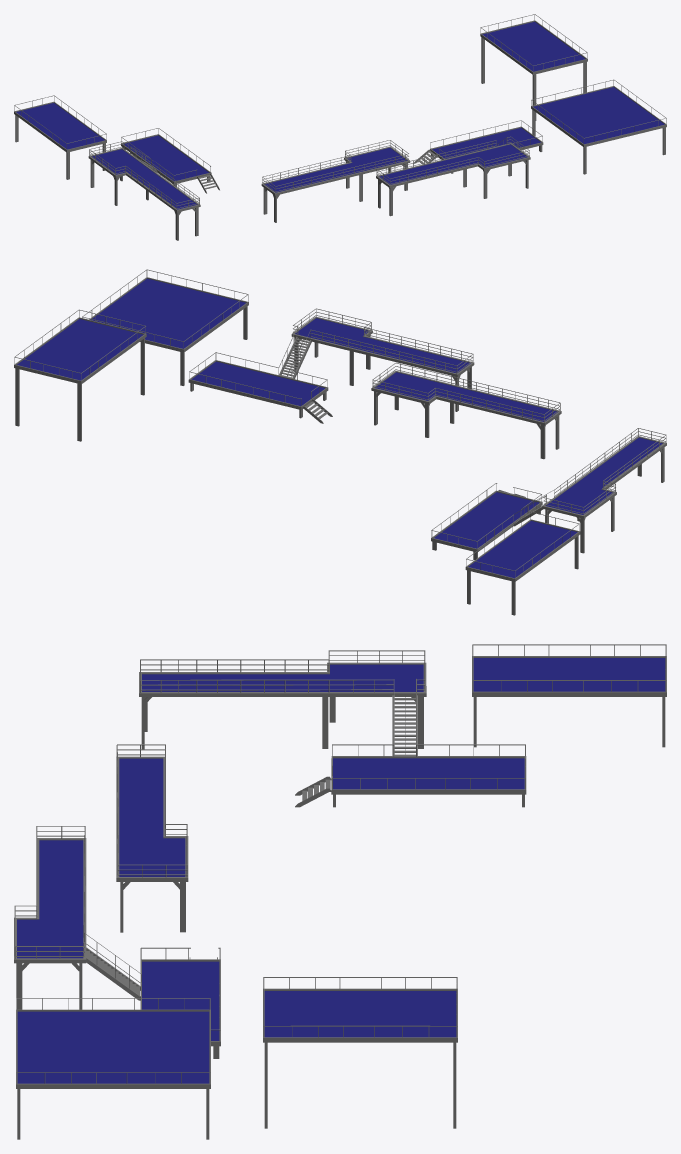
The model's file is second_platform_2.FBX.
3 renders of one model, top to bottom at view 1: azimuth 30°, elevation 25°; view 2: azimuth 150°, elevation 25°; view 3: azimuth 270°, elevation 25°, orthographic. The views are drawn at different scales.
Parts seen in each view (by area): view 1: second_platform; view 2: second_platform; view 3: second_platform.
Part boxes in pixels (bbox=[...]): second_platform: bbox=[14, 14, 666, 240]; second_platform: bbox=[14, 269, 666, 615]; second_platform: bbox=[14, 644, 666, 1139].
Size of the model in its own units: 6762 by 767 by 4357.
